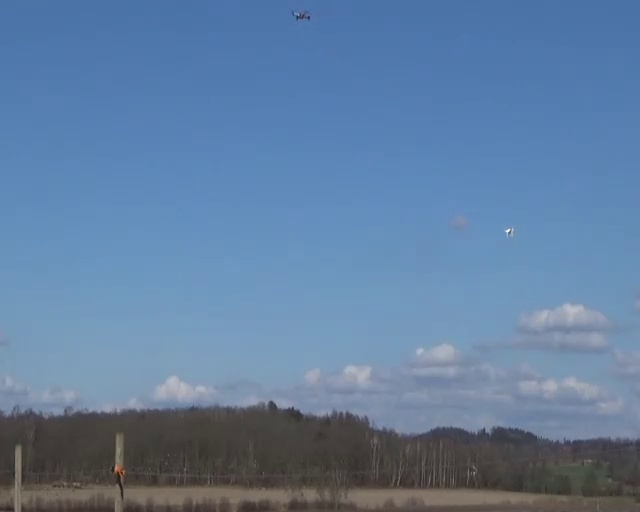DRONE: (291, 10, 310, 20)
